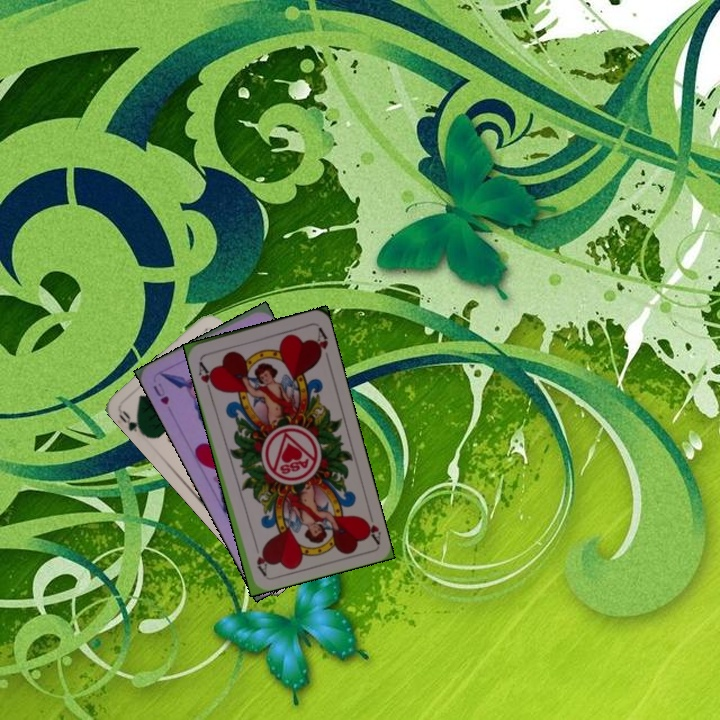GO: (114, 406, 149, 438)
HA: (194, 355, 219, 395), (358, 506, 383, 545)
HU: (149, 379, 172, 407)
